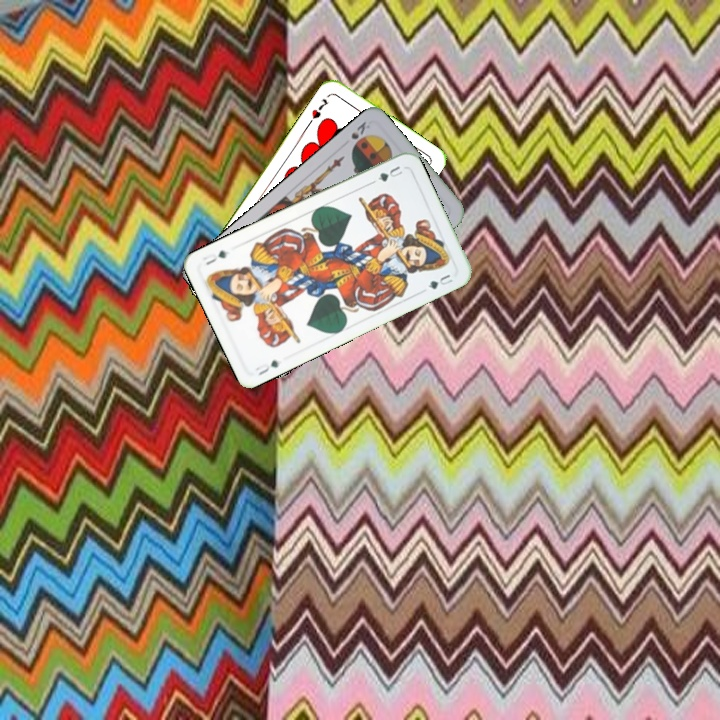GU: (368, 162, 405, 186), (251, 356, 282, 378)
H7: (307, 94, 331, 122)
SK: (347, 117, 373, 142)
